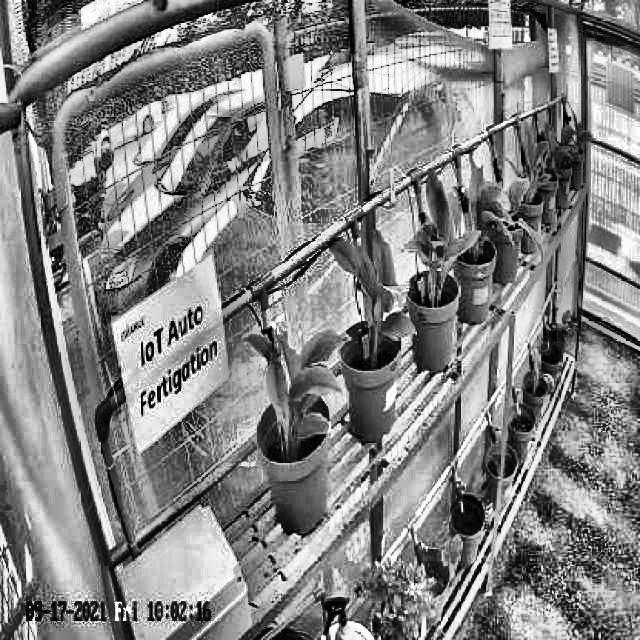plants: (243, 326, 352, 444), (326, 228, 419, 337), (406, 166, 477, 292), (462, 152, 516, 265)
